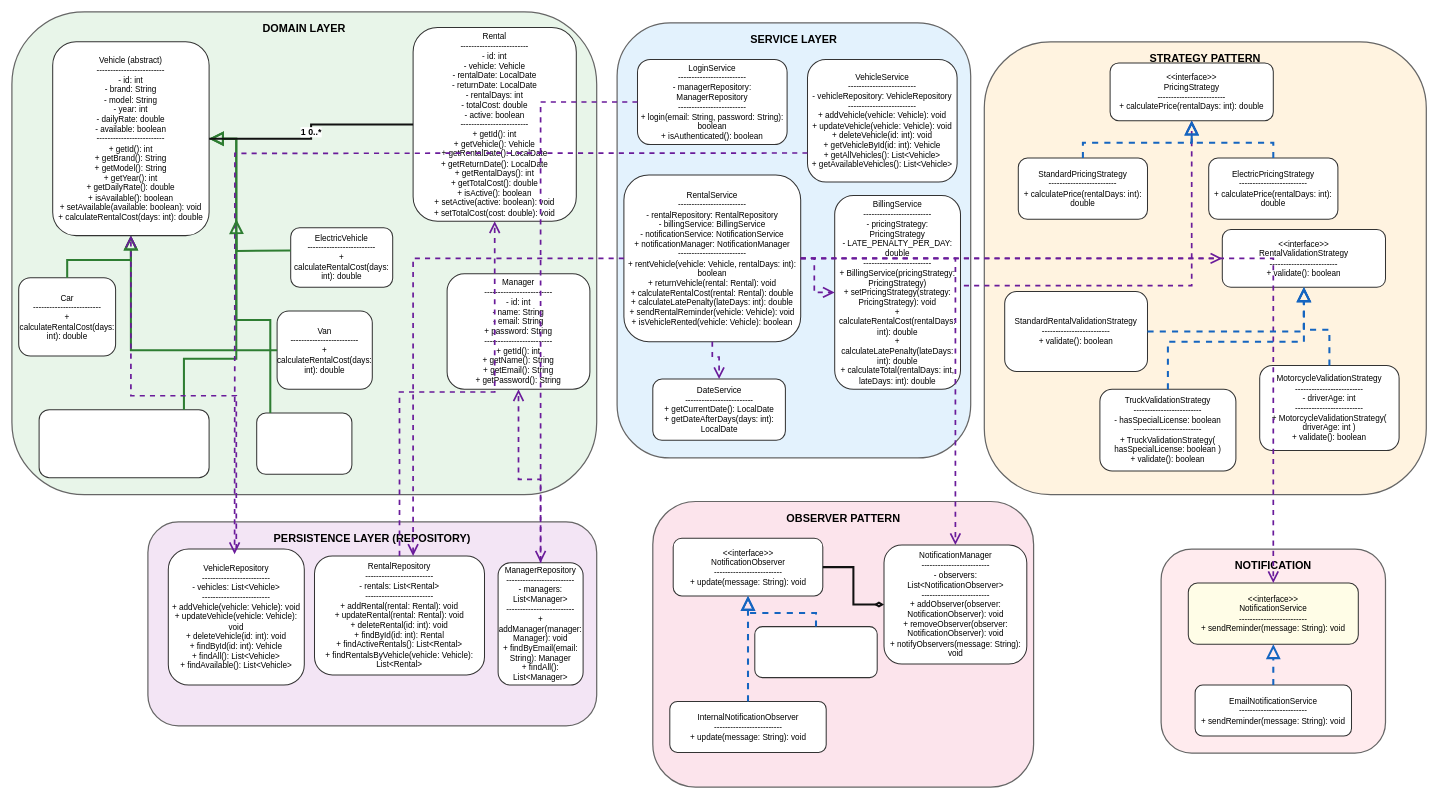
The diagram is 1439 pixels wide and 800 high, and some of its shapes have lost their labels. Here are the shapes that lost their labels. From the top down, the centre of each, then its label:
At (x=123, y=443): "Motorcycle ------------------------- + calculateRentalCost(days: int): double".
At (x=304, y=443): "Truck ------------------------- + calculateRentalCost(days: int): double".
At (x=815, y=652): "EmailObserver ------------------------- + update(message: String): void".
